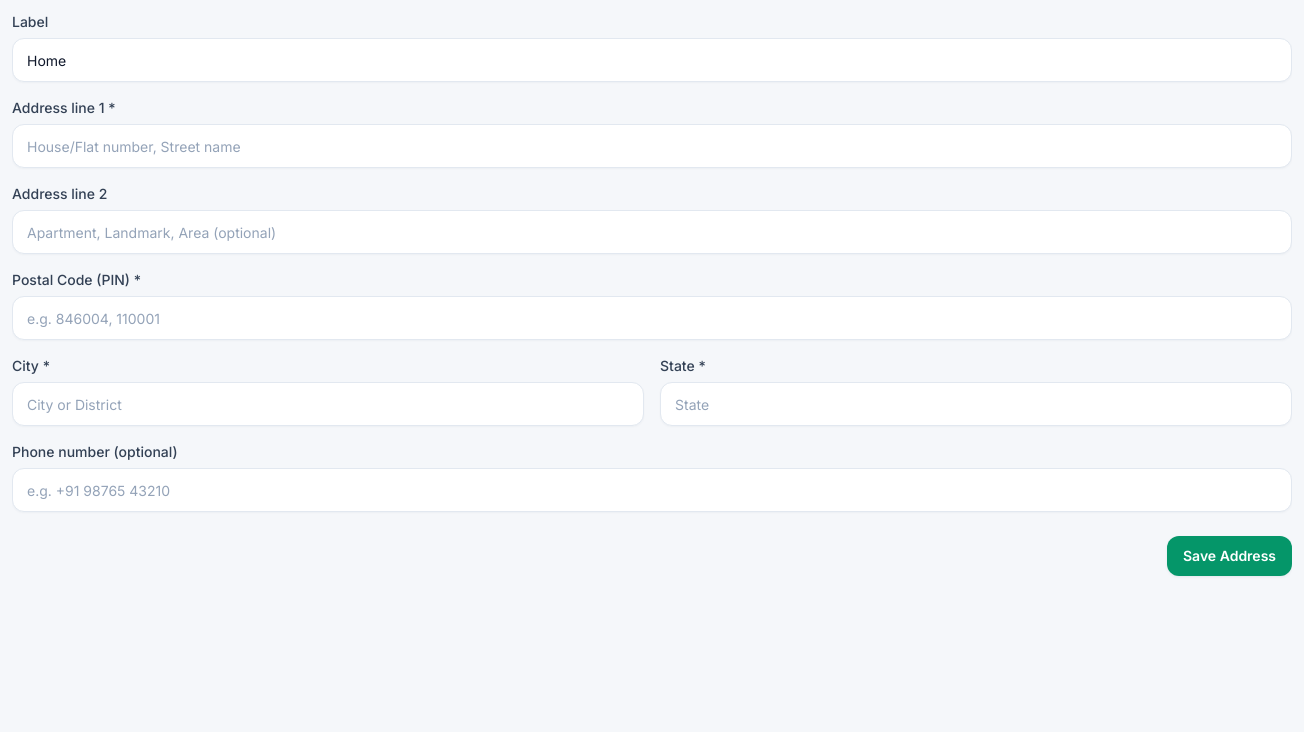
Scenario: AddressForm & PIN Code Auto-Fill › automatically fills City and State when valid 6-digit PIN is entered
The image size is (1304, 732).
Type "846004" into the field labelled "Postal Code (PIN) *". click: (652, 318)
box: 12,296 -> 1292,340
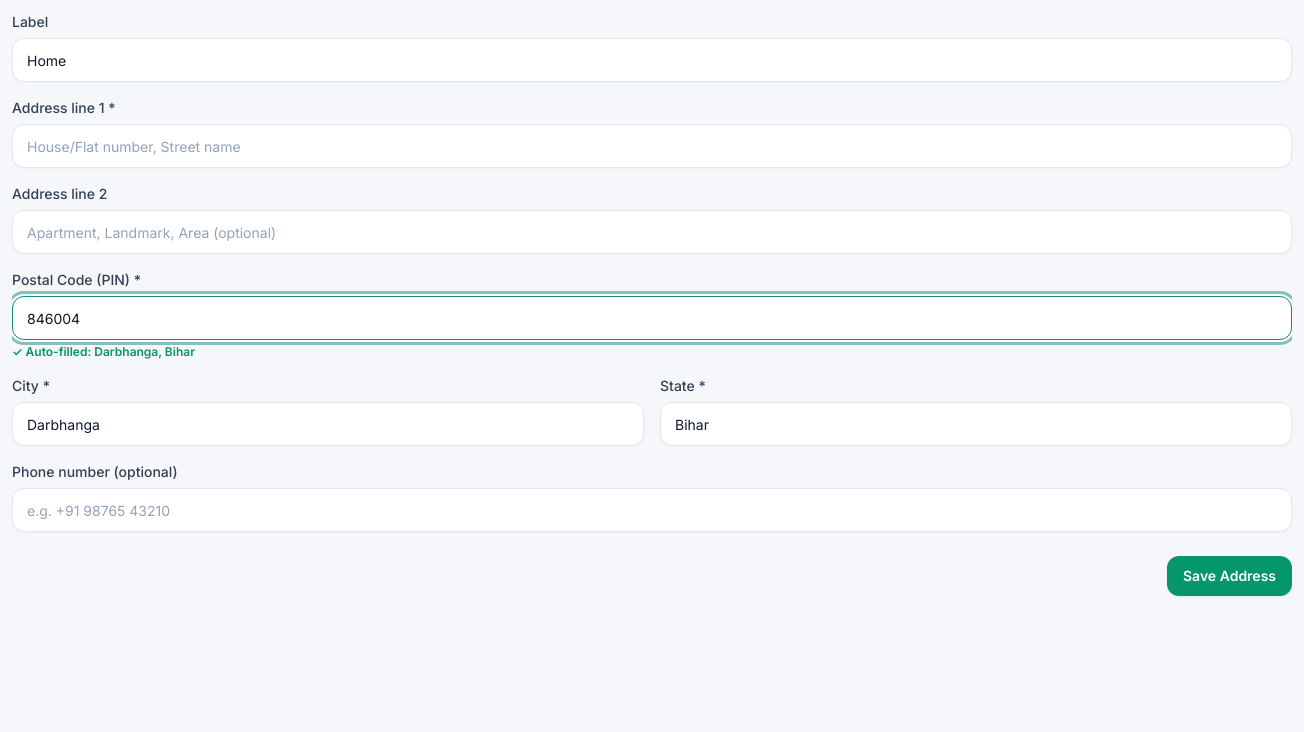
Check: the field showing "Darbhanga" is shown, box 12,402 -> 644,446
Check: the field showing "Bihar" is shown, box 660,402 -> 1292,446
Check: the text "✓ Auto-filled: Darbhanga, Bihar" is shown, box 12,344 -> 195,359
